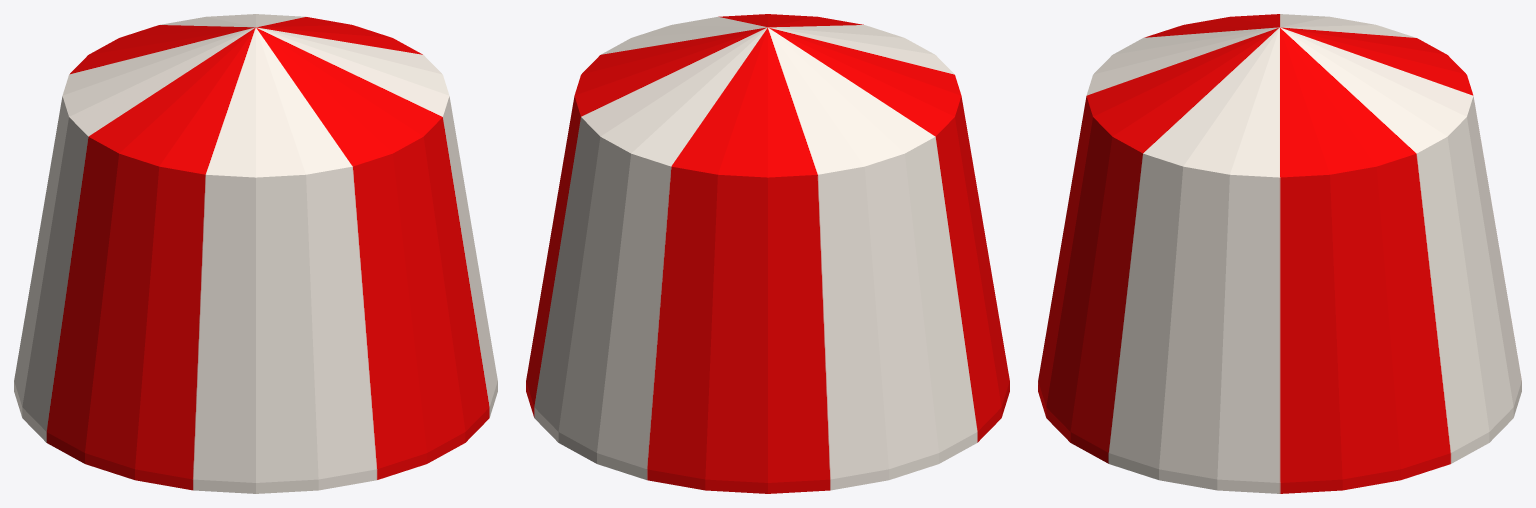
File: Tent_collider.glb
The picture shows the model from 3 angles, left to right: view 1: azimuth 30°, elevation 25°; view 2: azimuth 150°, elevation 25°; view 3: azimuth 270°, elevation 25°; orthographic projection.
Parts seen in each view (by area): view 1: Cylinder; view 2: Cylinder; view 3: Cylinder.
Boxes of the visible parts, x1,y1,x2,y2 form: Cylinder: [14, 14, 497, 493]; Cylinder: [526, 14, 1009, 493]; Cylinder: [1038, 14, 1521, 493].
Size of the model in its own units: 20 by 16.62 by 20.
Materials: 1 (1 with a texture image).
